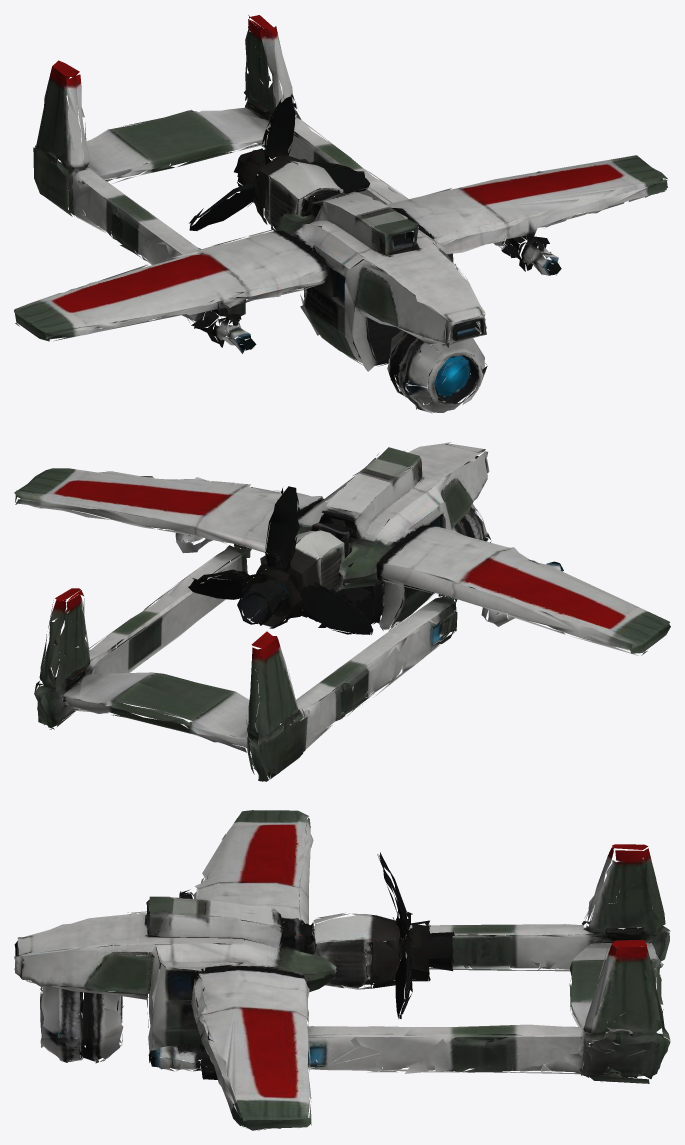
The model's file is cloud.glb.
The picture shows the model from 3 angles, top to bottom: view 1: azimuth 30°, elevation 25°; view 2: azimuth 150°, elevation 25°; view 3: azimuth 270°, elevation 25°; orthographic projection.
Parts seen in each view (by area): view 1: Mesh_0; view 2: Mesh_0; view 3: Mesh_0.
Part boxes in pixels (box(x1,y1,x2,y2)): Mesh_0: box(14, 15, 667, 413); Mesh_0: box(14, 442, 670, 781); Mesh_0: box(14, 810, 670, 1130).
Bounding box in the file's own units: 1.01 × 0.3082 × 0.9018.
1 material, 1 textured.
